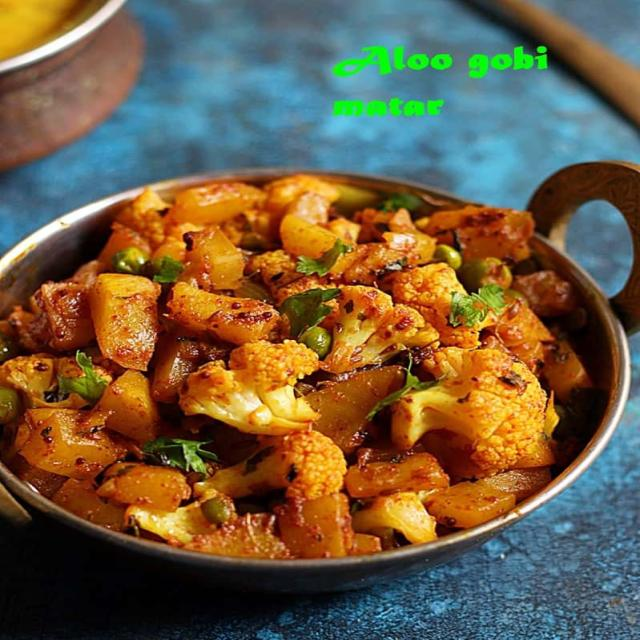aloo_gobi: (2, 176, 594, 547)
